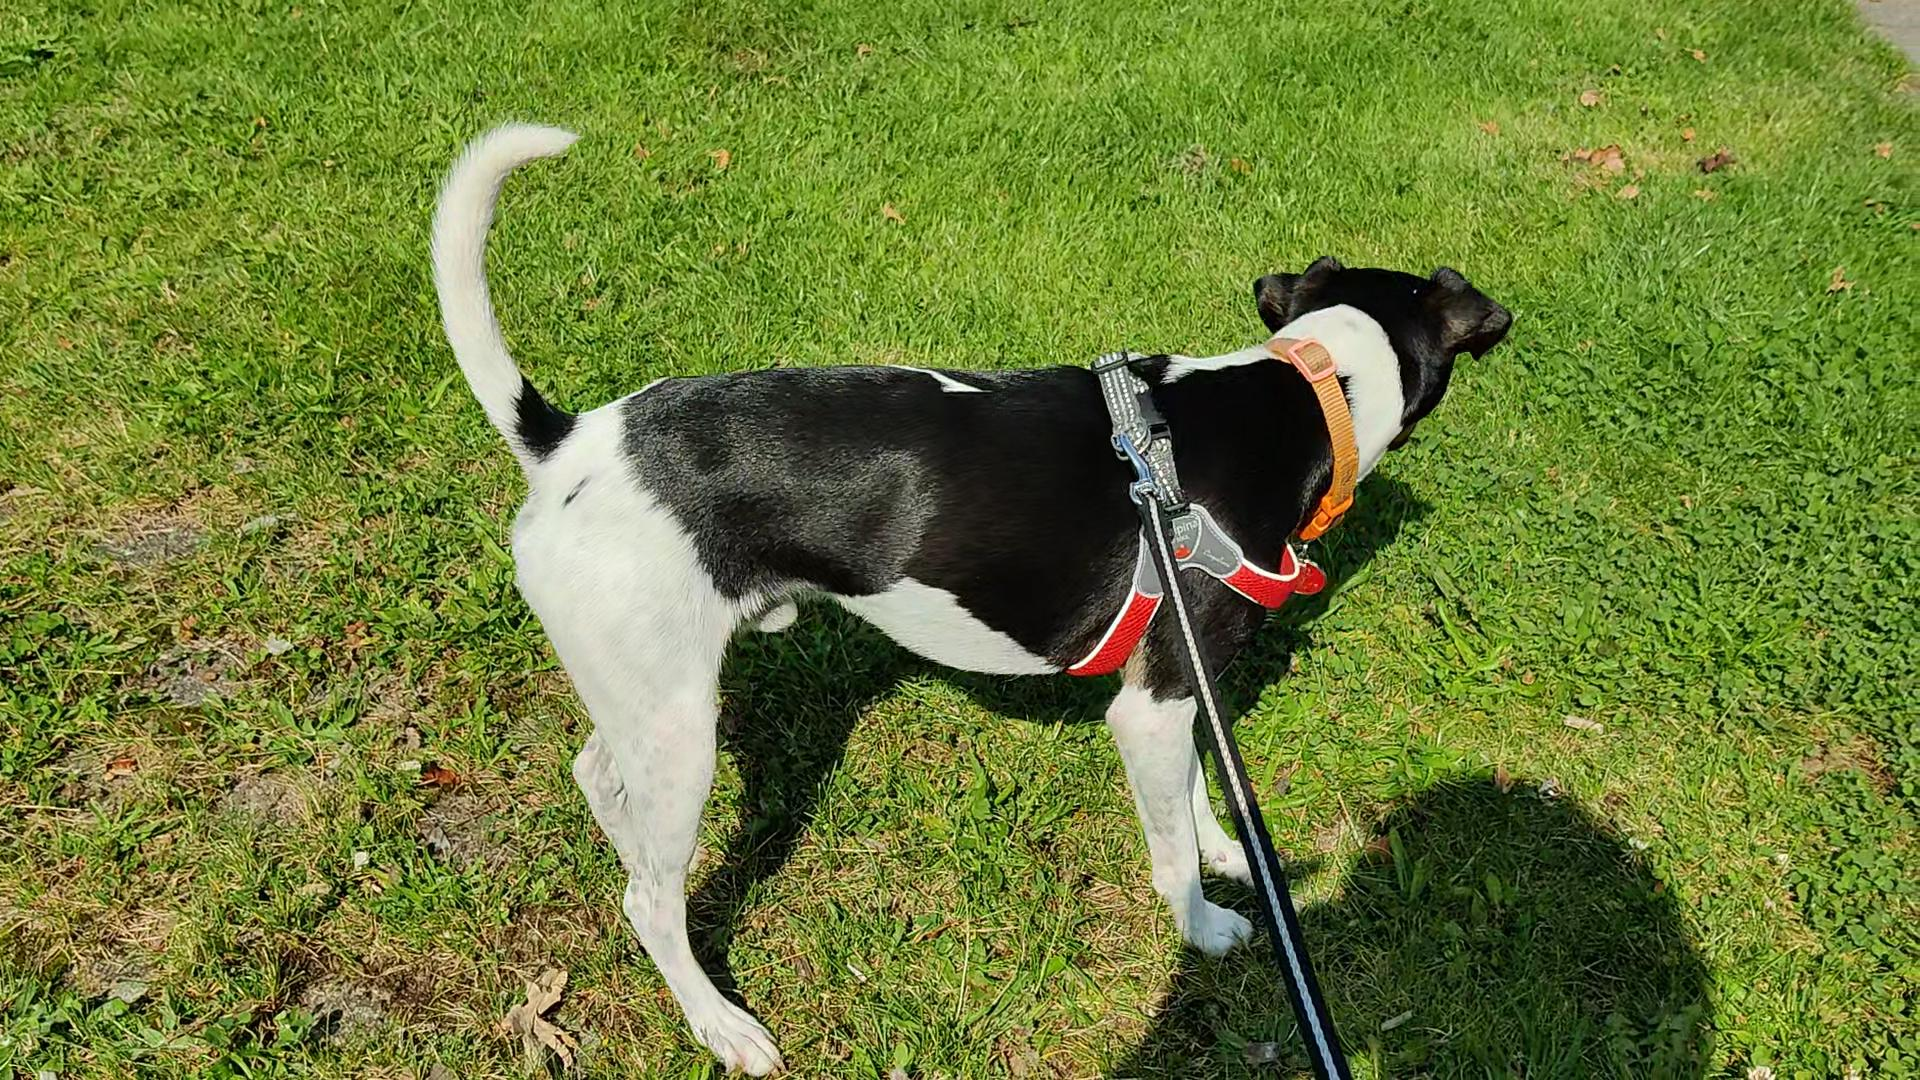Dog: (422, 112, 1515, 1079)
